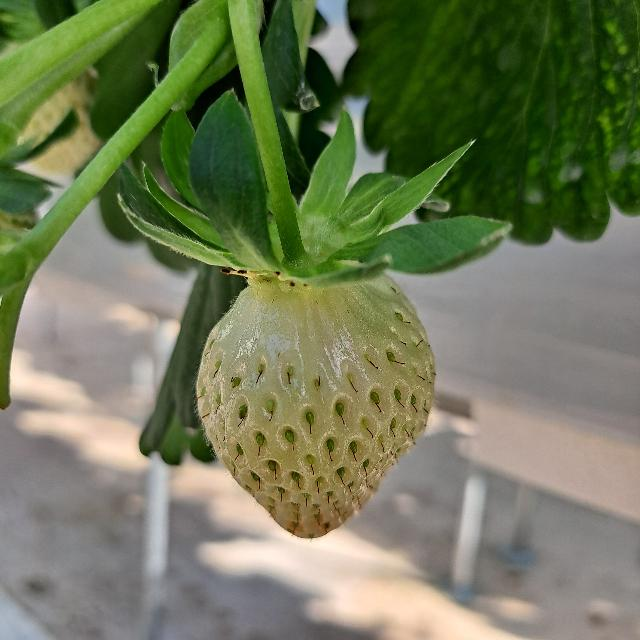Health_25: (196, 272, 434, 538)
